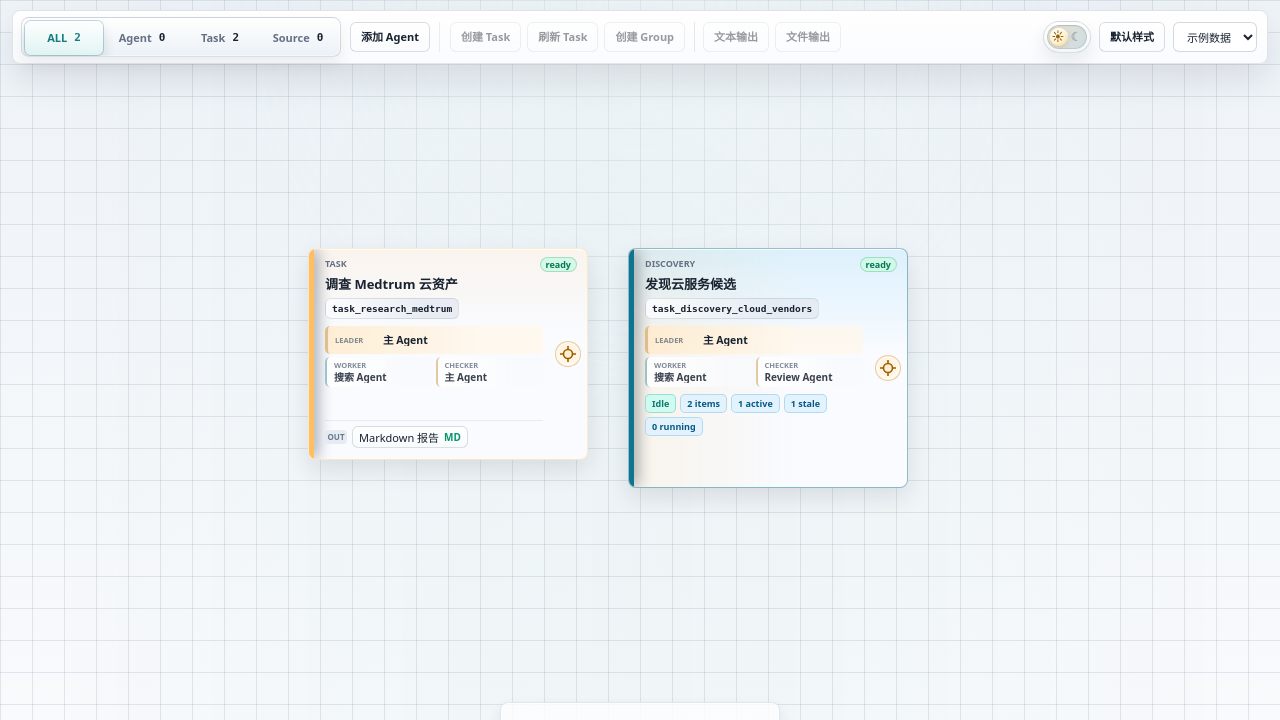
App › live data › shows live leader choices from the Agent catalog for Task creation
Select "实时 API" in the dropdown at coordinates (1215, 37), box [1173, 22, 1257, 52]
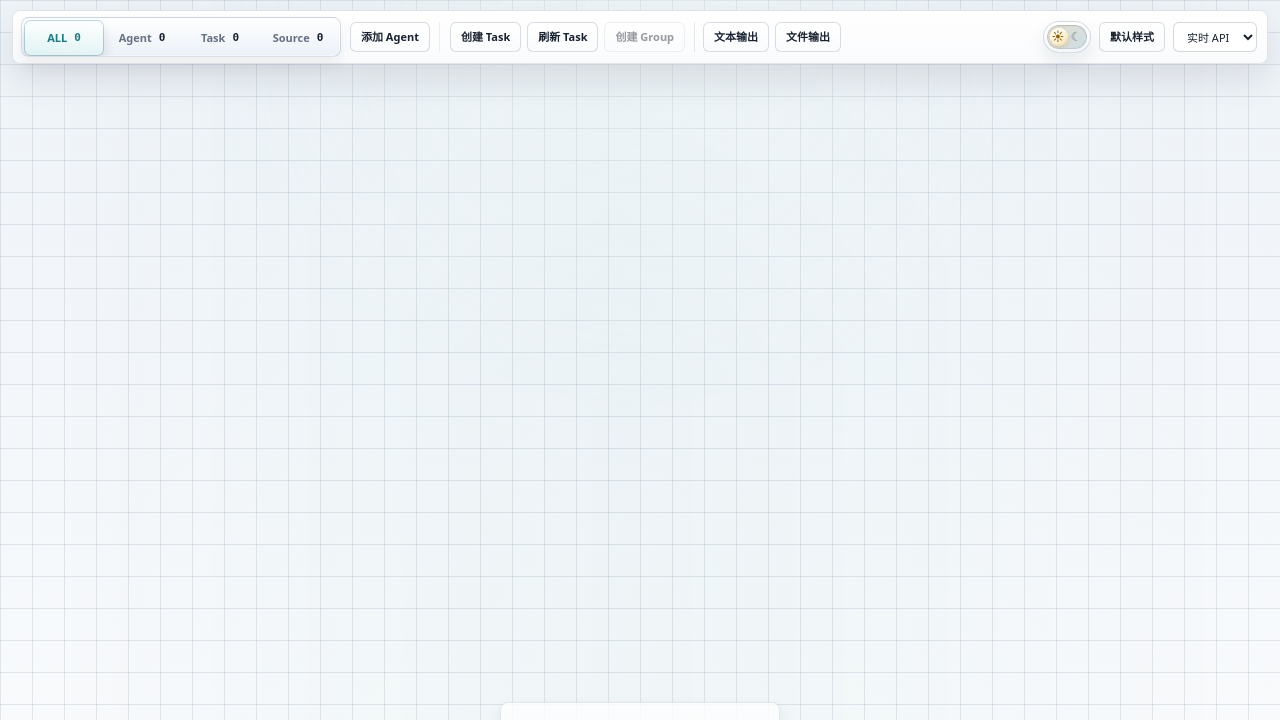
Check: the button "创建 Task" is enabled
Click the button "创建 Task" at coordinates (486, 37), box [450, 22, 521, 52]
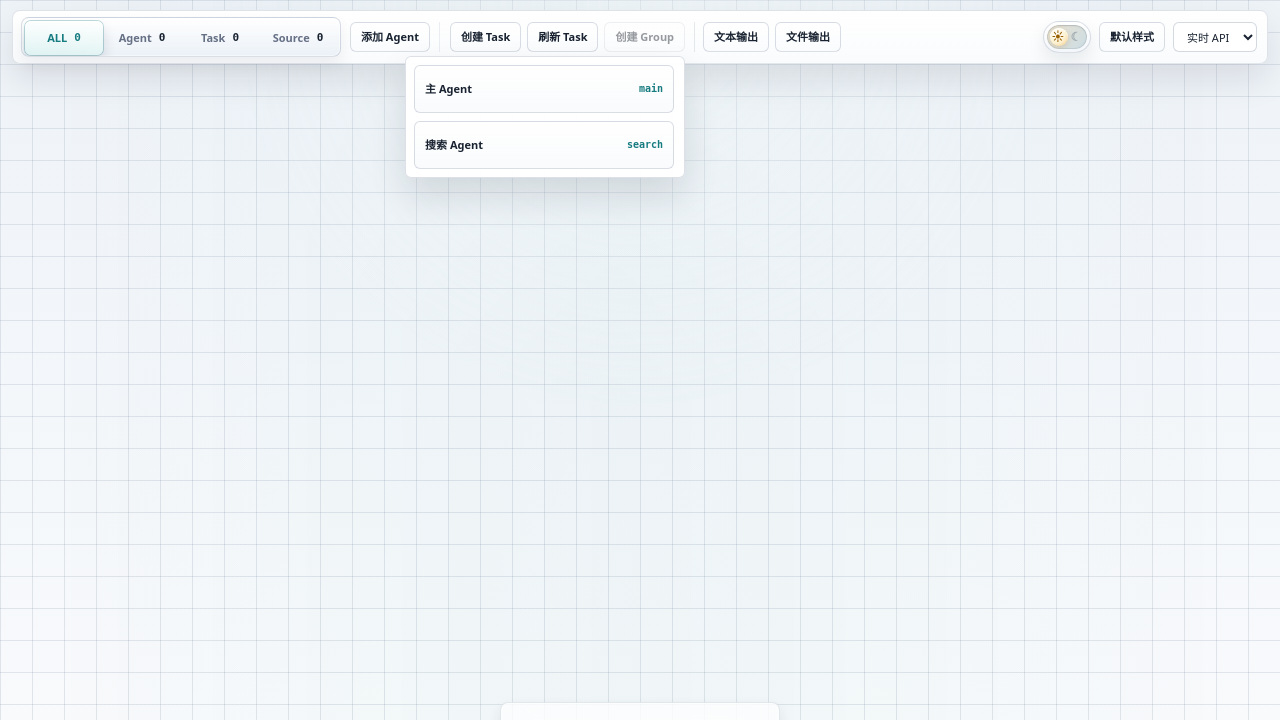
Check: the button "主 Agent main" is shown, box [414, 65, 674, 113]
Check: the button "搜索 Agent search" is shown, box [414, 121, 674, 169]
